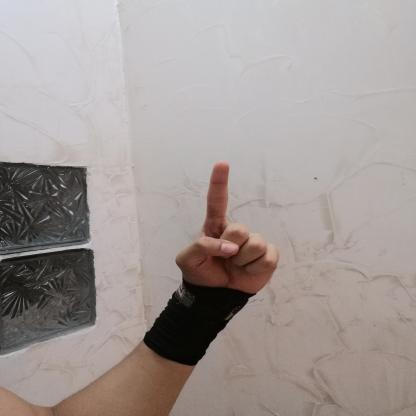BAA: (166, 155, 289, 303)
